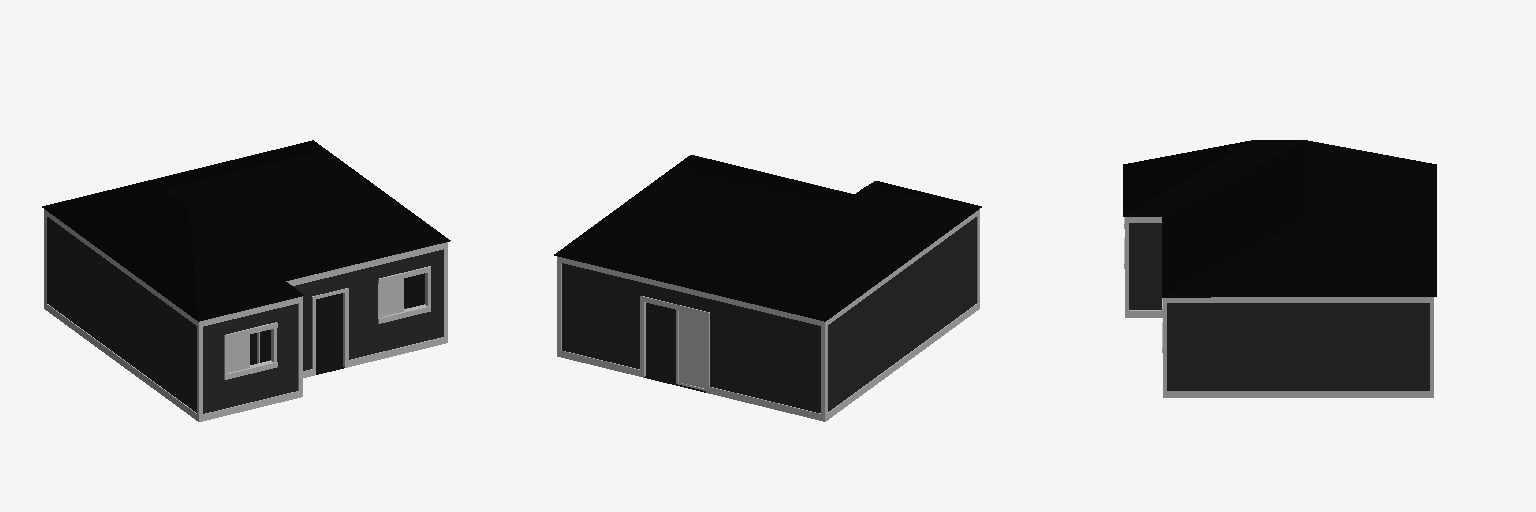
The model's file is casanova.obj.
3 views of the same model, side by side, from view 1: azimuth 30°, elevation 25°; view 2: azimuth 150°, elevation 25°; view 3: azimuth 270°, elevation 25° (orthographic).
Visible parts, largest first — view 1: Vert; view 2: Vert; view 3: Vert.
Part boxes in pixels (x1,y1,x2,y2): Vert: (42,140,450,421); Vert: (554,155,981,421); Vert: (1123,140,1436,397).
Size of the model in its own units: 16.55 by 8.9 by 16.55.